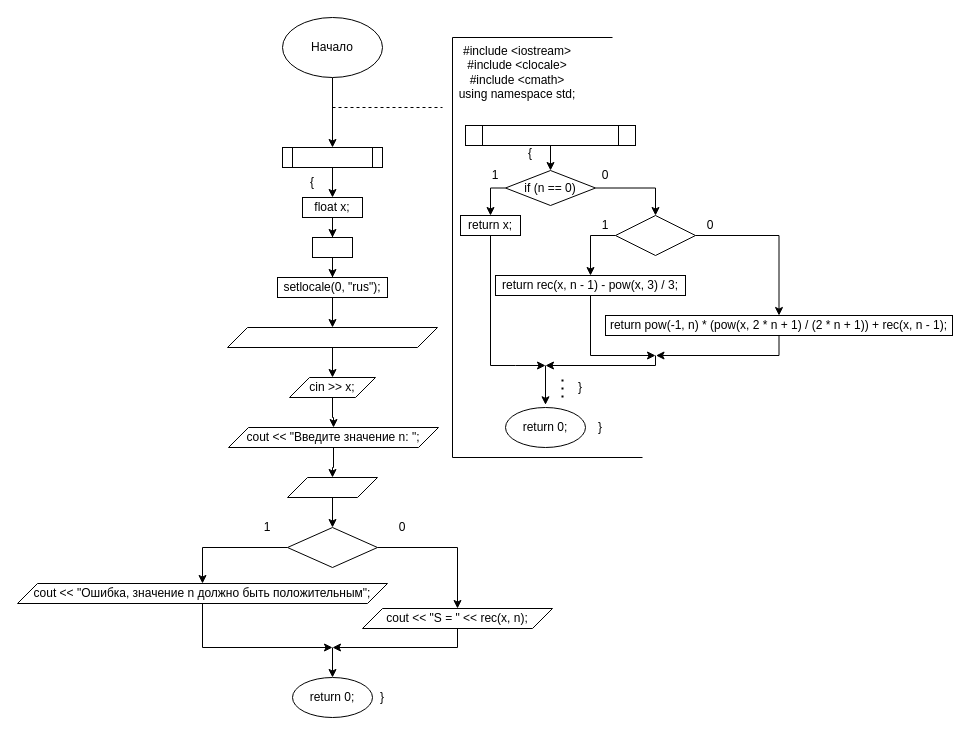
This 970x735 diagram has some shape labels left out. Each missing label, with the centre of its shape:
cin >> n;: pixel 332 487
cout << "Введите значение x: ";: pixel 332 337
double rec(float x, int n): pixel 550 135
if (n < 0): pixel 332 547
if (n == 1): pixel 655 235
int main(): pixel 332 157
int n;: pixel 332 247
